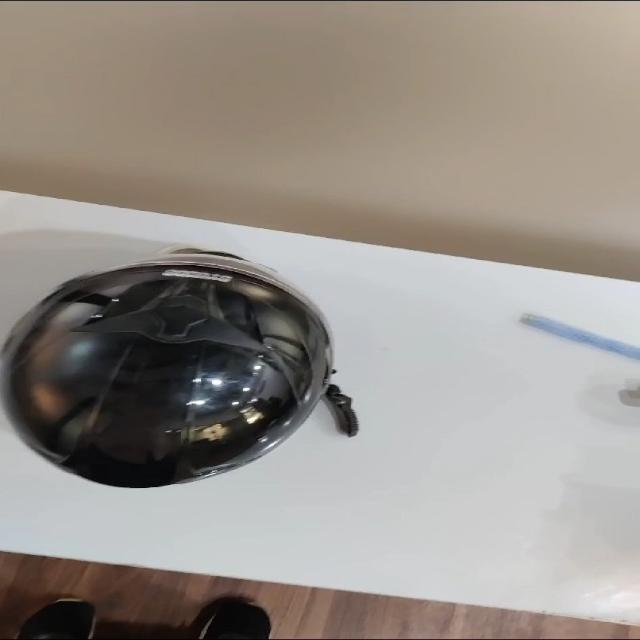helmet: (9, 240, 362, 502)
